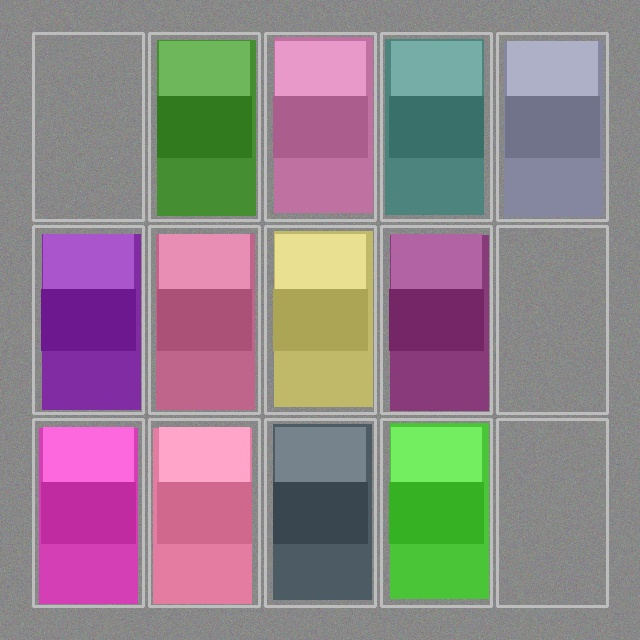space-empty: (35, 35, 141, 218), (499, 228, 605, 411), (499, 421, 605, 604)
space-occupied: (151, 35, 257, 218), (267, 35, 373, 218), (383, 35, 489, 218), (499, 35, 605, 218), (35, 228, 141, 411), (151, 228, 257, 411), (267, 228, 373, 411), (383, 228, 489, 411), (35, 421, 141, 604), (151, 421, 257, 604), (267, 421, 373, 604), (383, 421, 489, 604)
